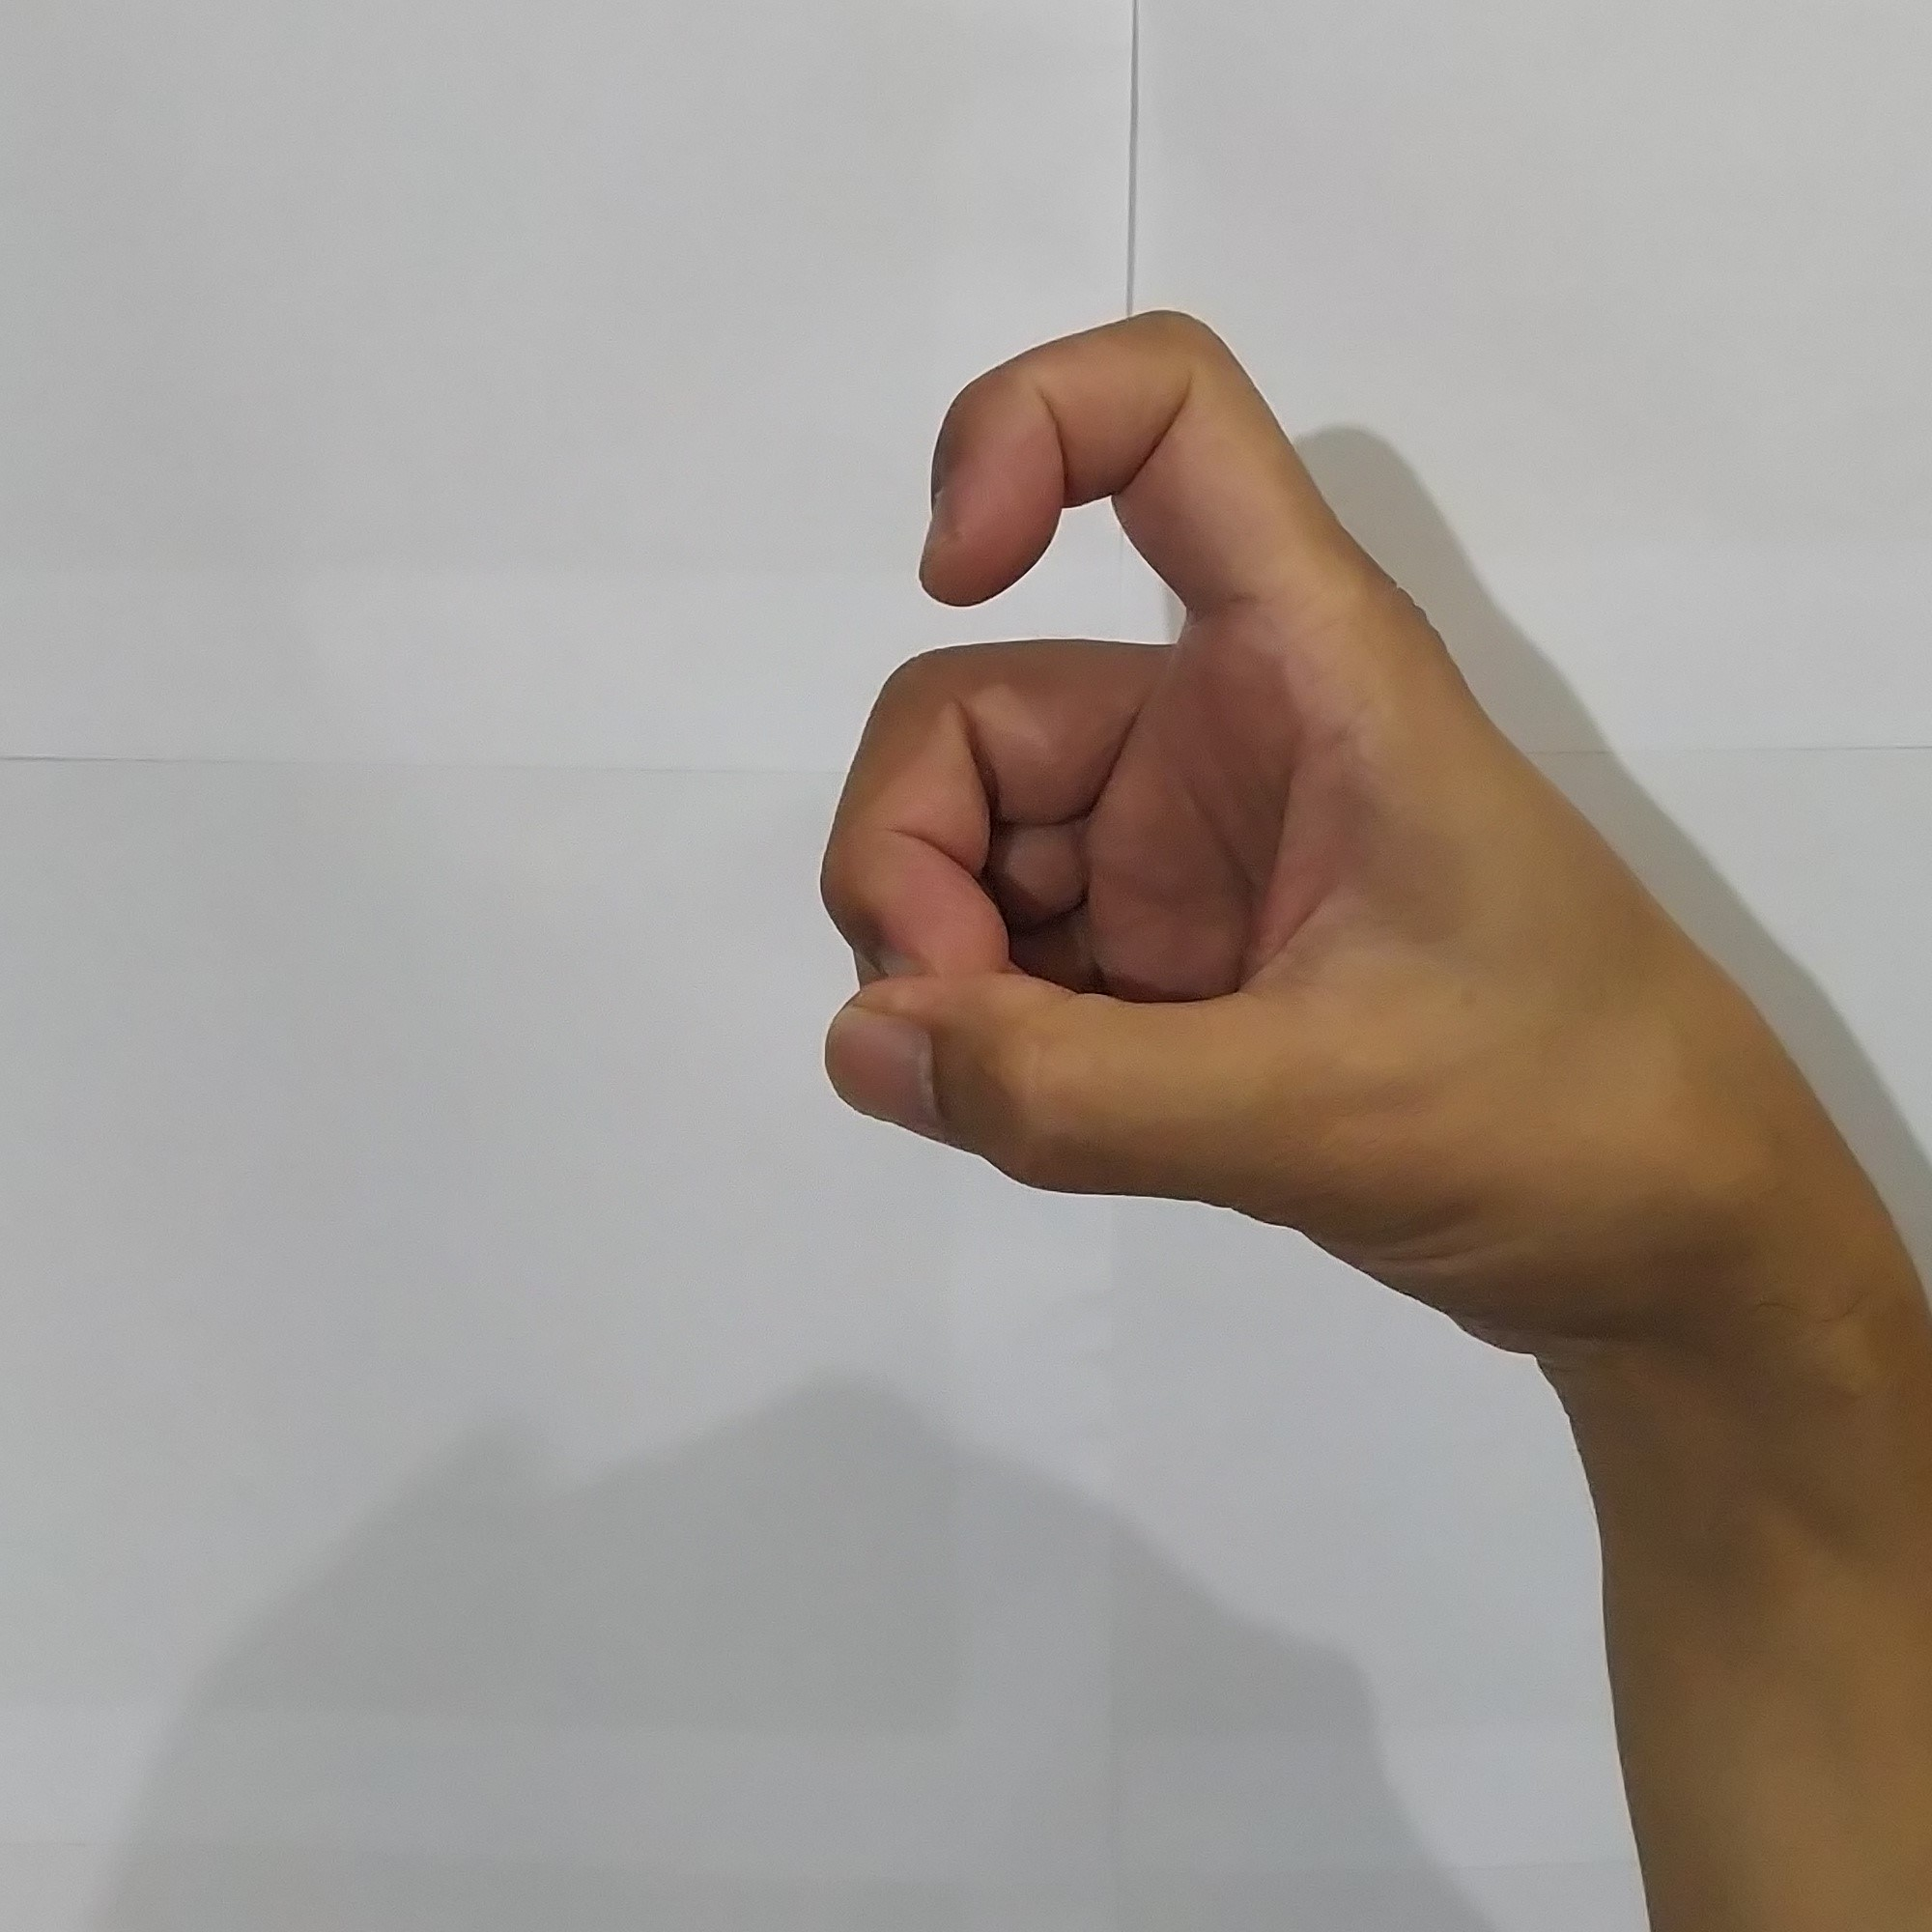X: (794, 281, 1815, 1357)
